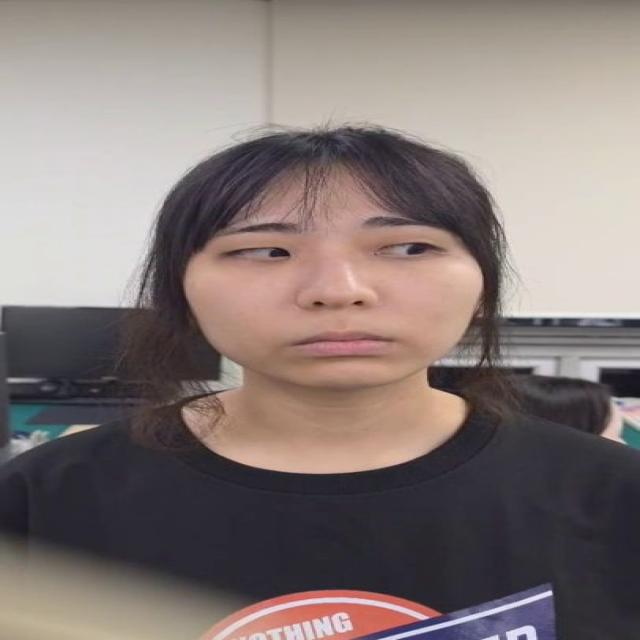eyes: (206, 237, 449, 270)
face: (184, 129, 487, 391)
iris_left: (402, 239, 432, 259), (270, 244, 292, 260)
